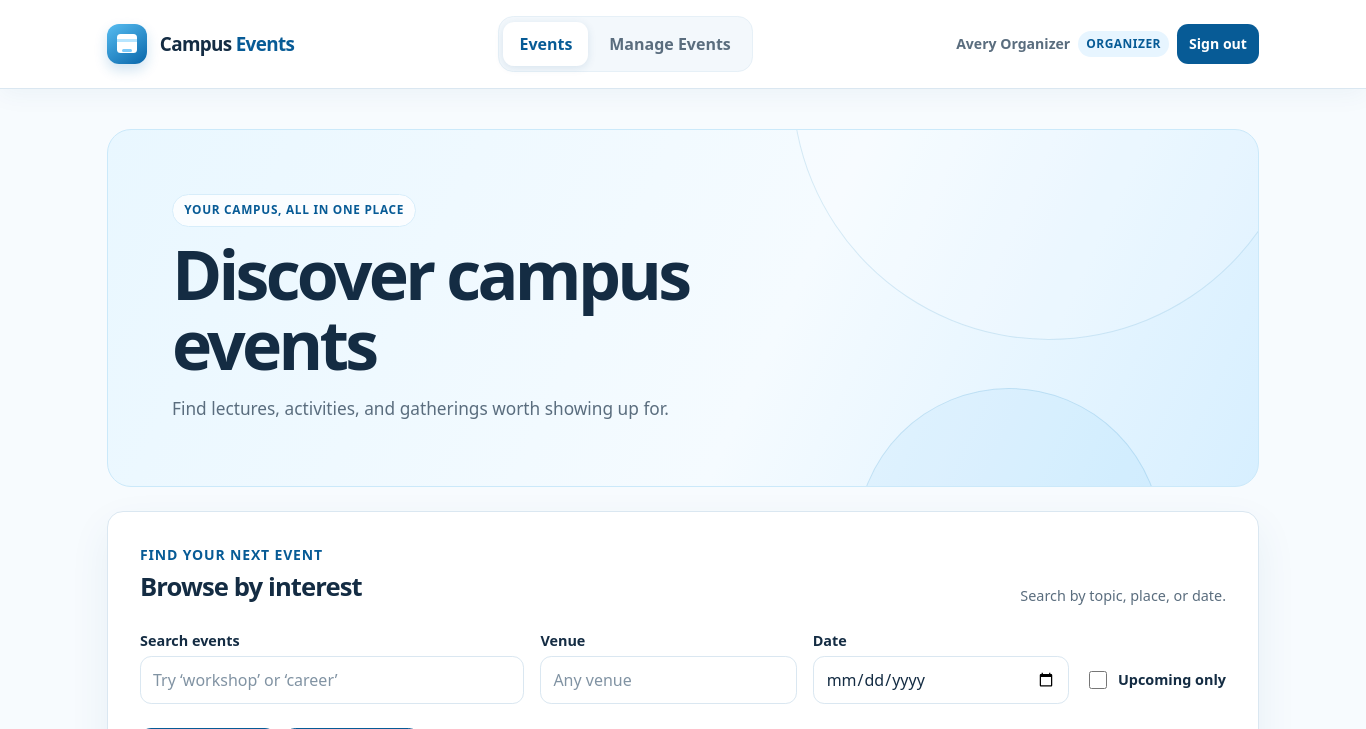
AuthProvider › starts the Microsoft sign-out flow in the current tab
Step 1. Click the button "Sign out" → (1218, 44), box [1177,24,1259,64]
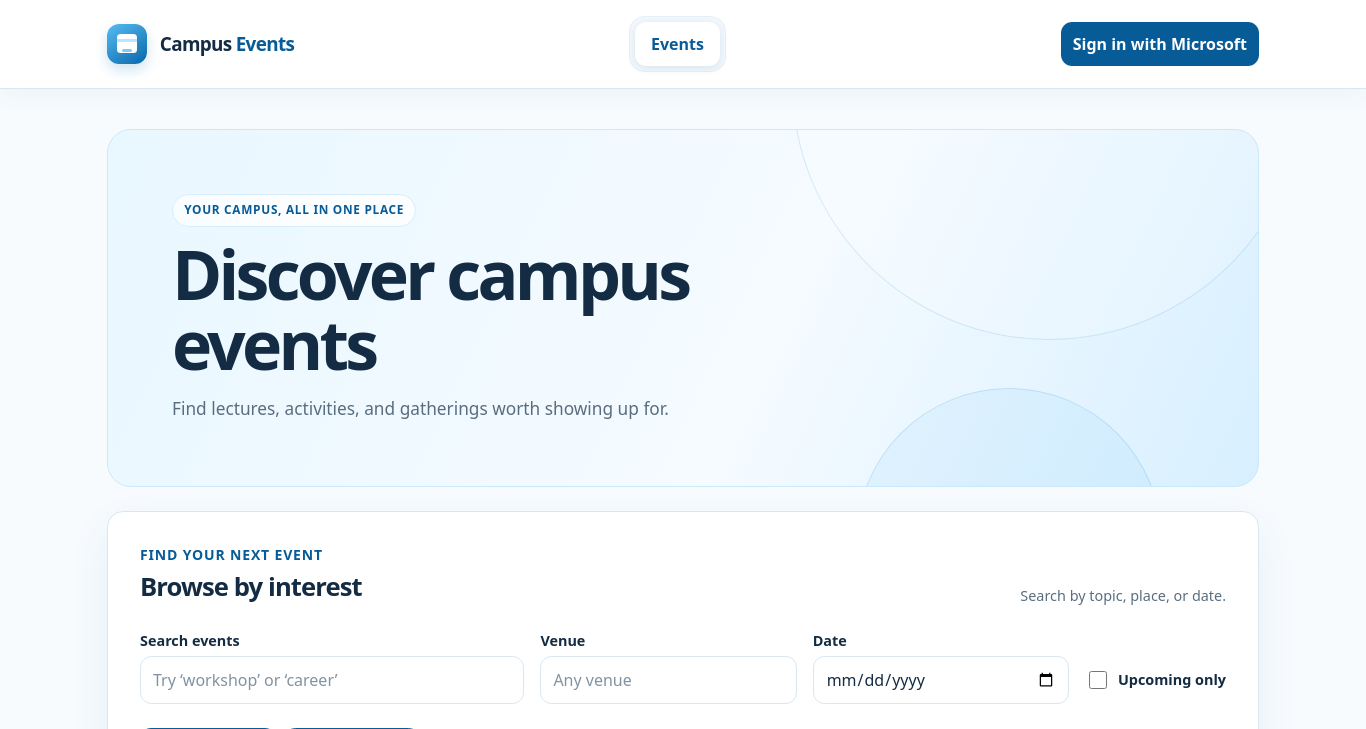
Now the button "Sign in with Microsoft" is shown, box [1061,22,1259,66]
